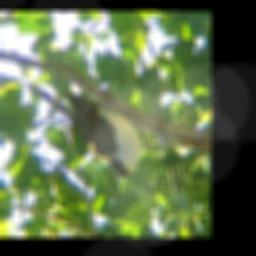Cuckoo: (17, 80, 142, 179)
